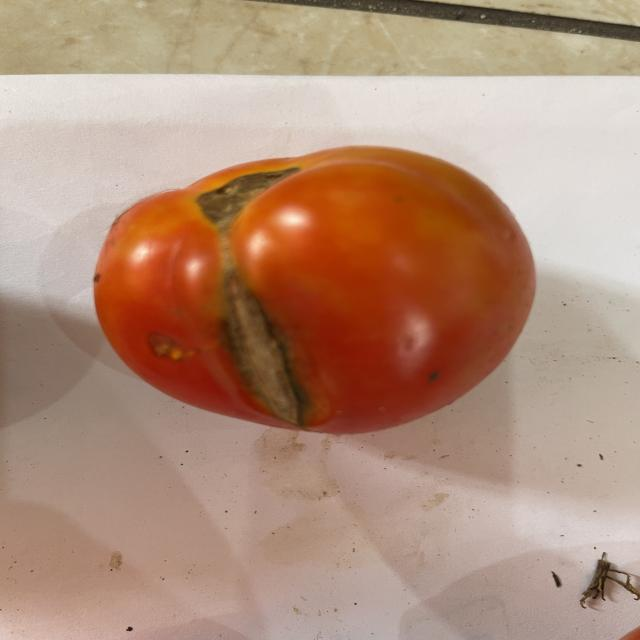tomato_cracking: (201, 266, 318, 428)
